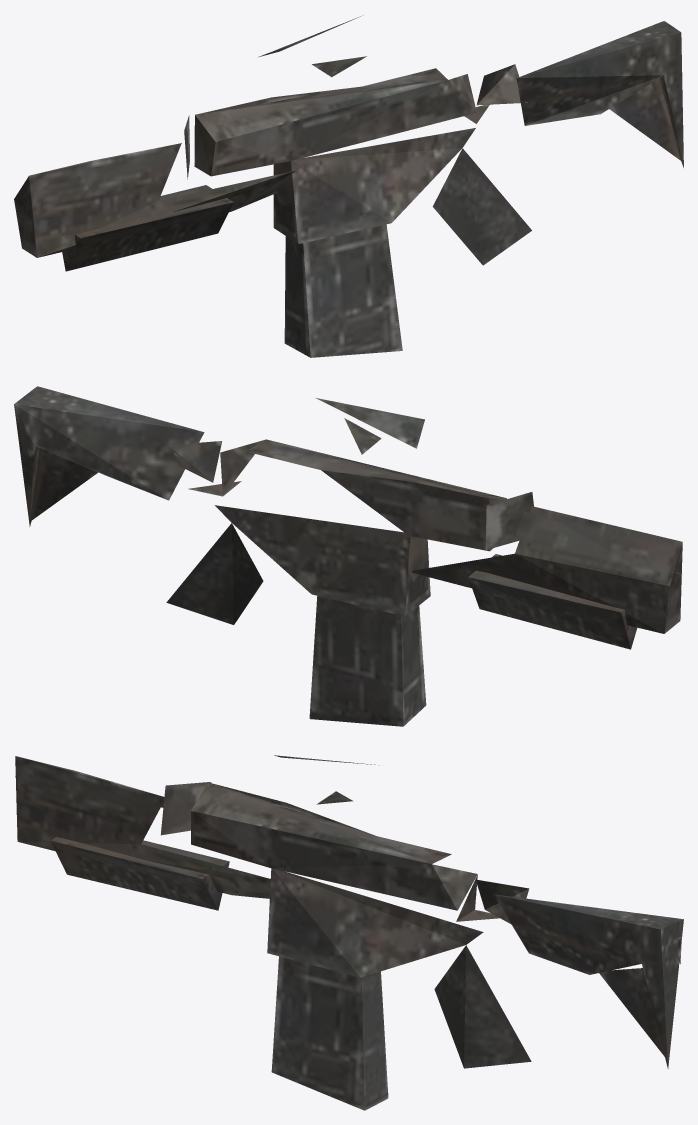
File: prop.rifle_guard.lod.glb
3 views of the same model, one above another, from view 1: azimuth 30°, elevation 25°; view 2: azimuth 150°, elevation 25°; view 3: azimuth 330°, elevation 25° (orthographic).
Parts seen in each view (by area): view 1: body; view 2: body; view 3: body.
Part boxes in pixels (x1,y1,x2,y2): body: (14,15,683,357); body: (14,386,682,726); body: (15,755,683,1110).
Bounding box in the file's own units: 0.5219 × 0.2449 × 0.0438.
1 material, 1 textured.
